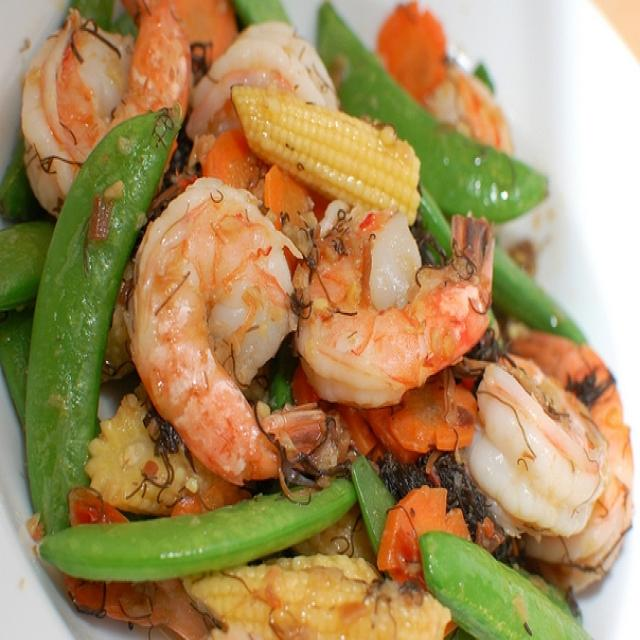蔬菜料理: (14, 31, 625, 626)
